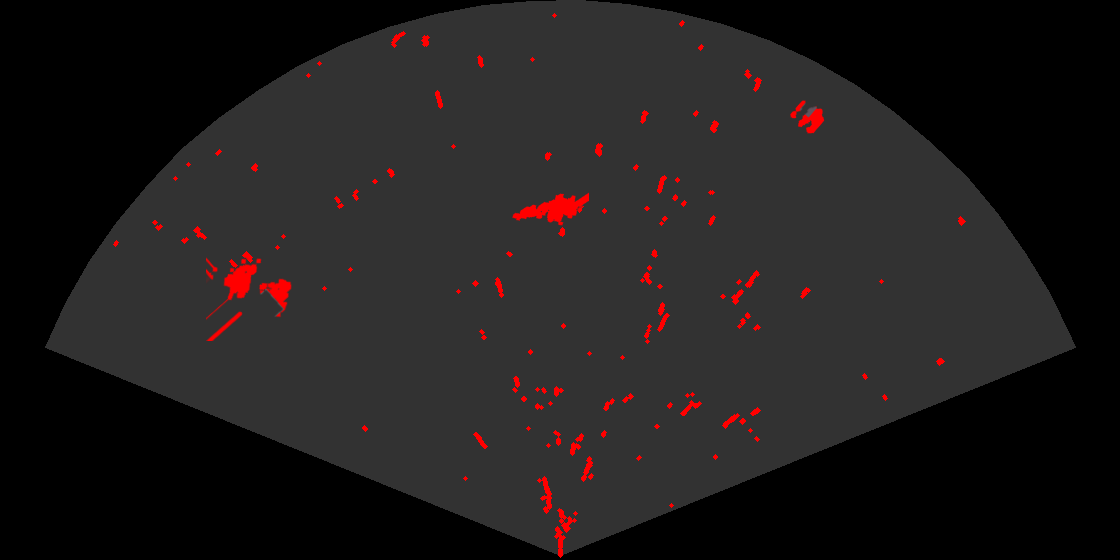ball: (789, 99, 826, 135)
cage: (206, 256, 293, 341)
frogman: (511, 191, 589, 227)
